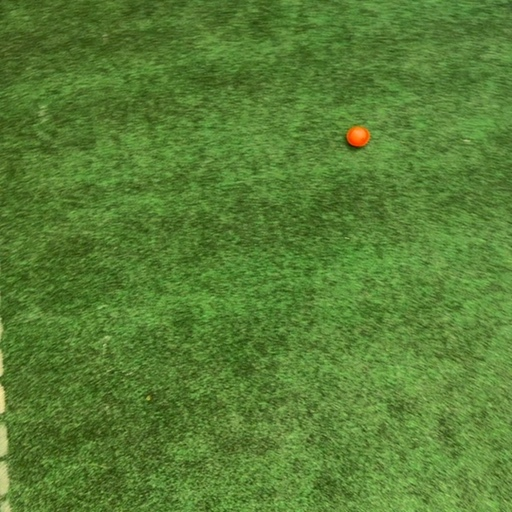Ball: (346, 127, 370, 147)
